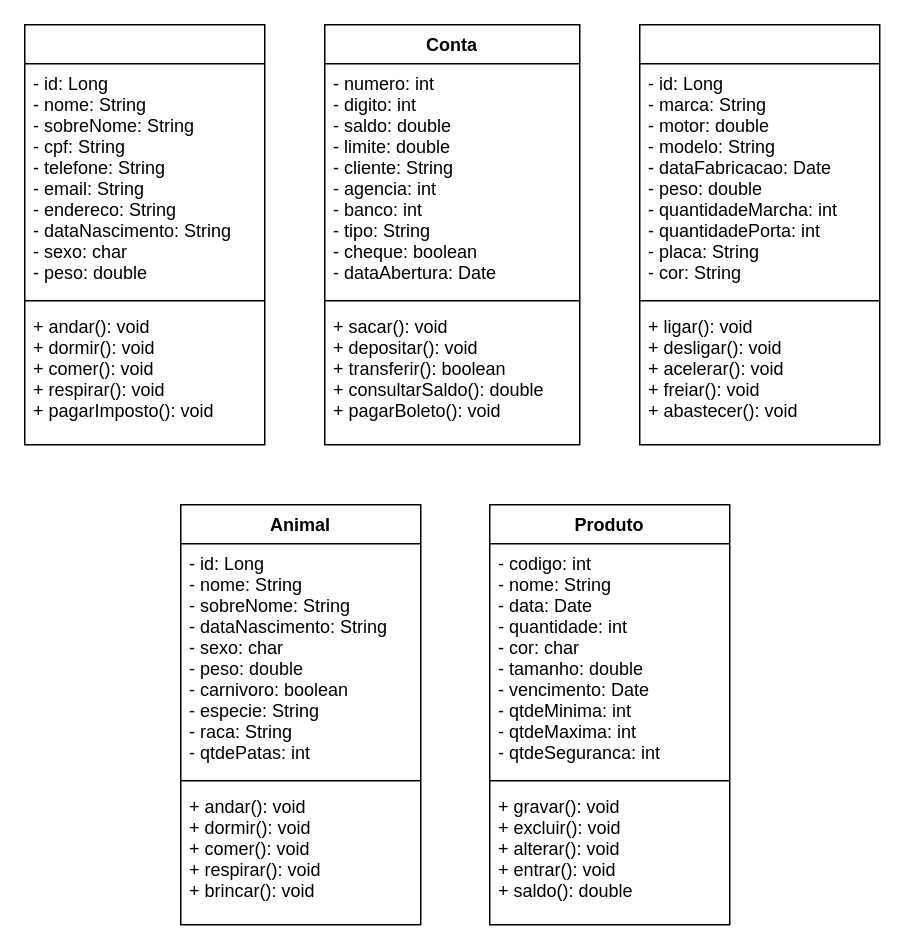
The diagram is 905 pixels wide and 950 high, and some of its shapes have lost their labels. Here are the shapes that lost their labels. From the top down, the box of each, then its label:
(23, 23, 265, 445): Pessoa
(638, 23, 880, 445): Carro
